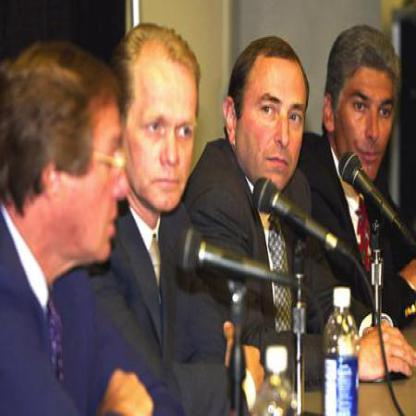face: (48, 53, 138, 266), (125, 39, 201, 215), (240, 45, 308, 197), (336, 36, 394, 185)
